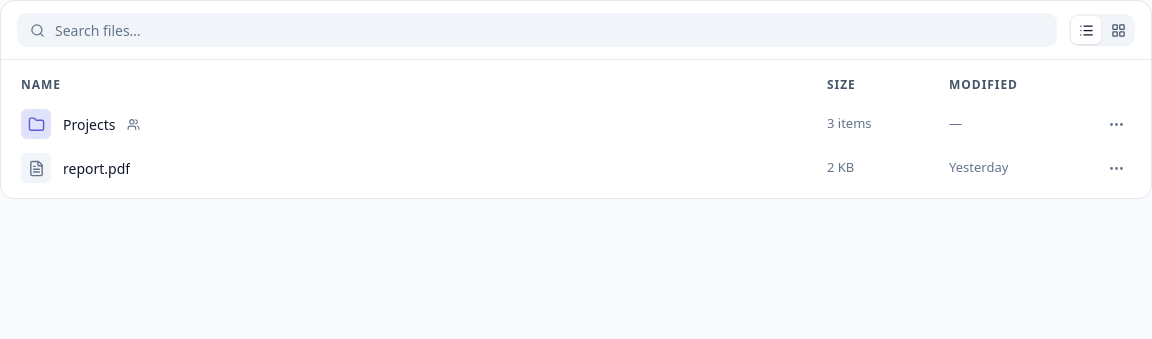
Test case: FileManager › uses labels.menuOpen for the action-menu label
Click the 1st button with class "lyra-dropdown__trigger".
click(1116, 124)  # box [1108,116,1124,132]
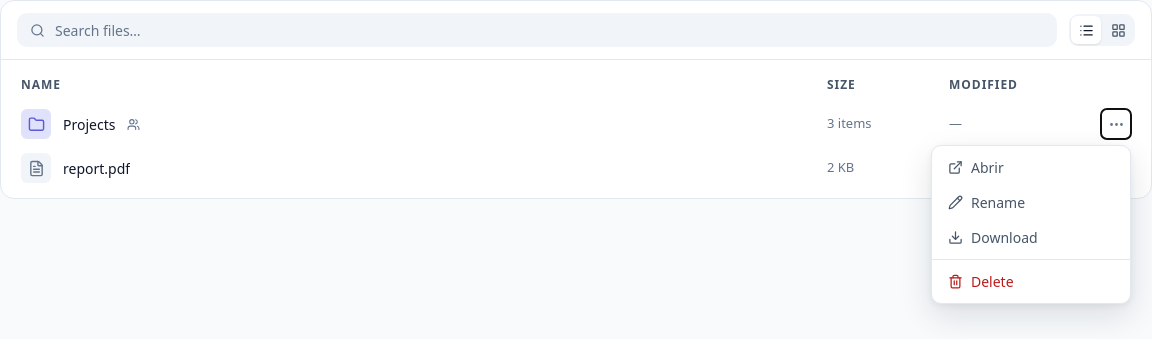
Result: the menu item "Abrir" is shown at [936,150,1126,185]
